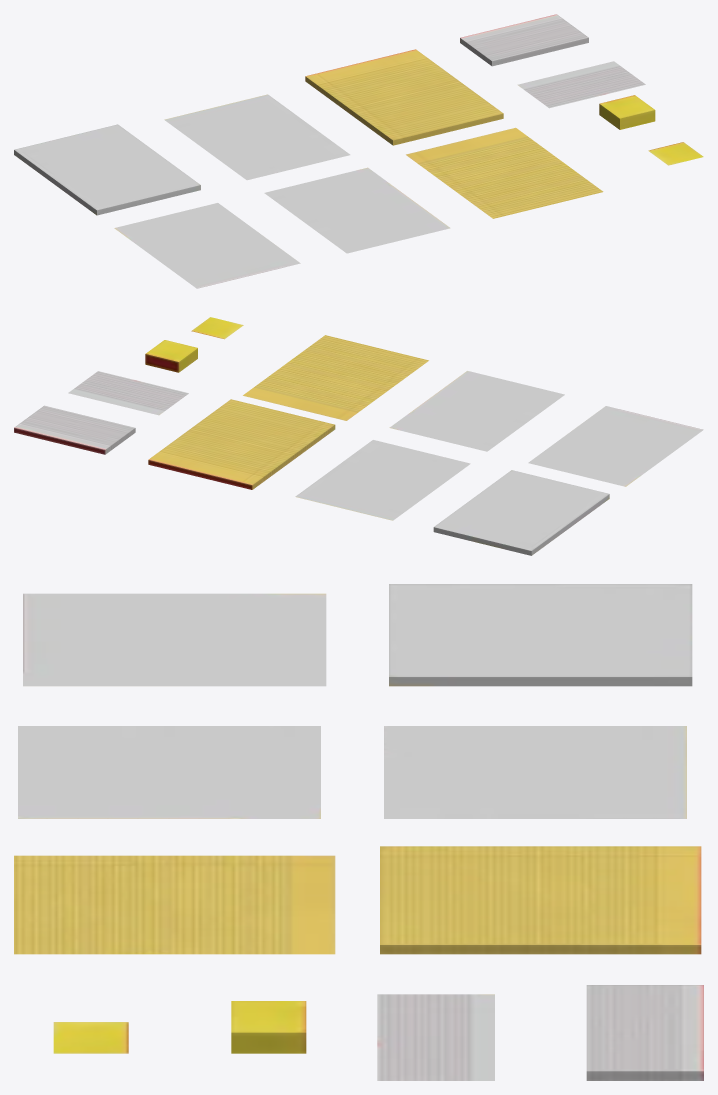
The model's file is office_notepads.glb.
3 renders of one model, top to bottom at view 1: azimuth 30°, elevation 25°; view 2: azimuth 150°, elevation 25°; view 3: azimuth 270°, elevation 25°, orthographic. The views are drawn at different scales.
Parts seen in each view (by area): view 1: office_notepads_yellow_pad, office_notepads_yellow_sheet, office_notepads_a4_stack, office_notepads_a4_a, office_notepads_a4_c, office_notepads_a4_b, office_notepads_note_stack, office_notepads_note_sheet, office_notepads_sticky_stack, office_notepads_sticky_sheet; view 2: office_notepads_yellow_pad, office_notepads_yellow_sheet, office_notepads_a4_stack, office_notepads_a4_b, office_notepads_a4_c, office_notepads_a4_a, office_notepads_note_stack, office_notepads_note_sheet, office_notepads_sticky_stack, office_notepads_sticky_sheet; view 3: office_notepads_yellow_pad, office_notepads_yellow_sheet, office_notepads_a4_stack, office_notepads_a4_a, office_notepads_a4_b, office_notepads_a4_c, office_notepads_note_stack, office_notepads_note_sheet, office_notepads_sticky_stack, office_notepads_sticky_sheet.
Boxes of the visible parts, x1,y1,x2,y2 form: office_notepads_yellow_pad: (305,49,503,145); office_notepads_yellow_sheet: (406,127,603,218); office_notepads_a4_stack: (14,124,200,215); office_notepads_a4_a: (114,203,300,288); office_notepads_a4_c: (264,167,450,253); office_notepads_a4_b: (164,94,350,180); office_notepads_note_stack: (460,14,588,66); office_notepads_note_sheet: (517,61,645,108); office_notepads_sticky_stack: (599,95,655,129); office_notepads_sticky_sheet: (648,142,703,165); office_notepads_yellow_pad: (148,399,335,489); office_notepads_yellow_sheet: (243,335,428,420); office_notepads_a4_stack: (433,470,609,555); office_notepads_a4_b: (295,440,470,520); office_notepads_a4_c: (389,371,564,451); office_notepads_a4_a: (528,406,703,486); office_notepads_note_stack: (14,405,135,454); office_notepads_note_sheet: (68,371,188,415); office_notepads_sticky_stack: (145,340,197,372); office_notepads_sticky_sheet: (191,317,243,339); office_notepads_yellow_pad: (380,846,701,954); office_notepads_yellow_sheet: (14,855,335,954); office_notepads_a4_stack: (389,584,692,686); office_notepads_a4_a: (23,593,326,686); office_notepads_a4_b: (384,726,686,818); office_notepads_a4_c: (18,726,320,818); office_notepads_note_stack: (586,985,703,1080); office_notepads_note_sheet: (377,994,494,1080); office_notepads_sticky_stack: (231,1001,306,1053); office_notepads_sticky_sheet: (53,1022,128,1053).
Bounding box in the file's own units: 1.1 × 0.022 × 0.6598.
Materials: 1 (1 with a texture image).
